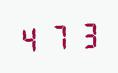four: (18, 22, 44, 53)
seven: (46, 20, 72, 52)
three: (73, 19, 99, 50)
